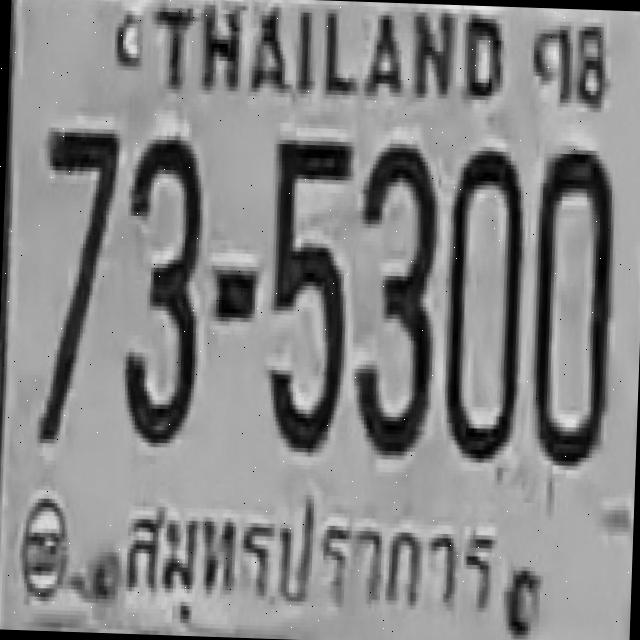0: (528, 144, 616, 467), (442, 147, 524, 461)
3: (352, 140, 439, 458), (119, 132, 204, 446)
5: (264, 135, 352, 453)
7: (34, 127, 120, 441), (40, 126, 120, 342), (42, 127, 120, 317)
SamutPrakan: (107, 475, 510, 640)
